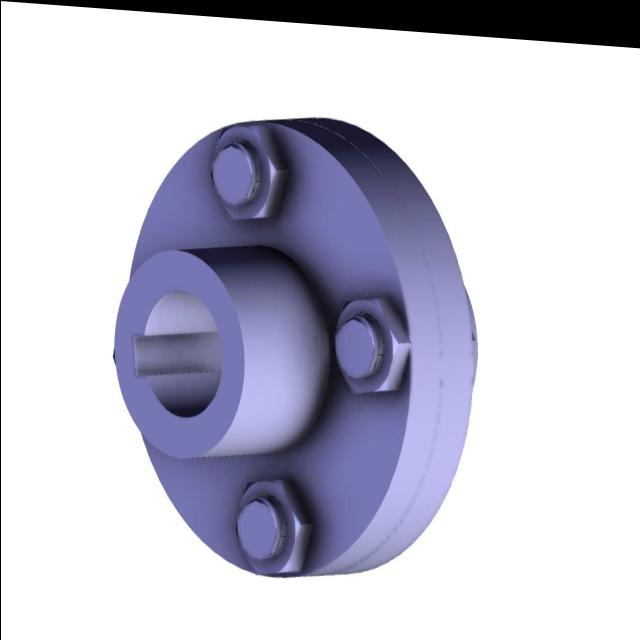Regular bolt: (234, 468, 311, 575), (210, 118, 287, 219), (336, 291, 410, 394)
